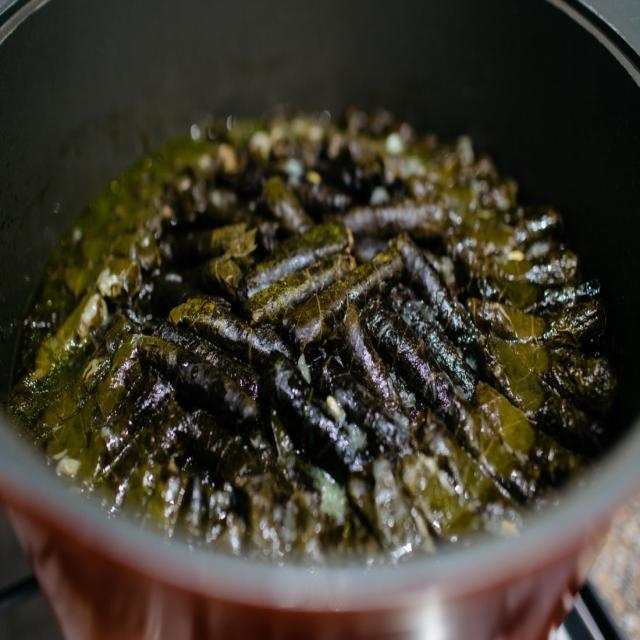wara enab: (116, 156, 519, 499)
